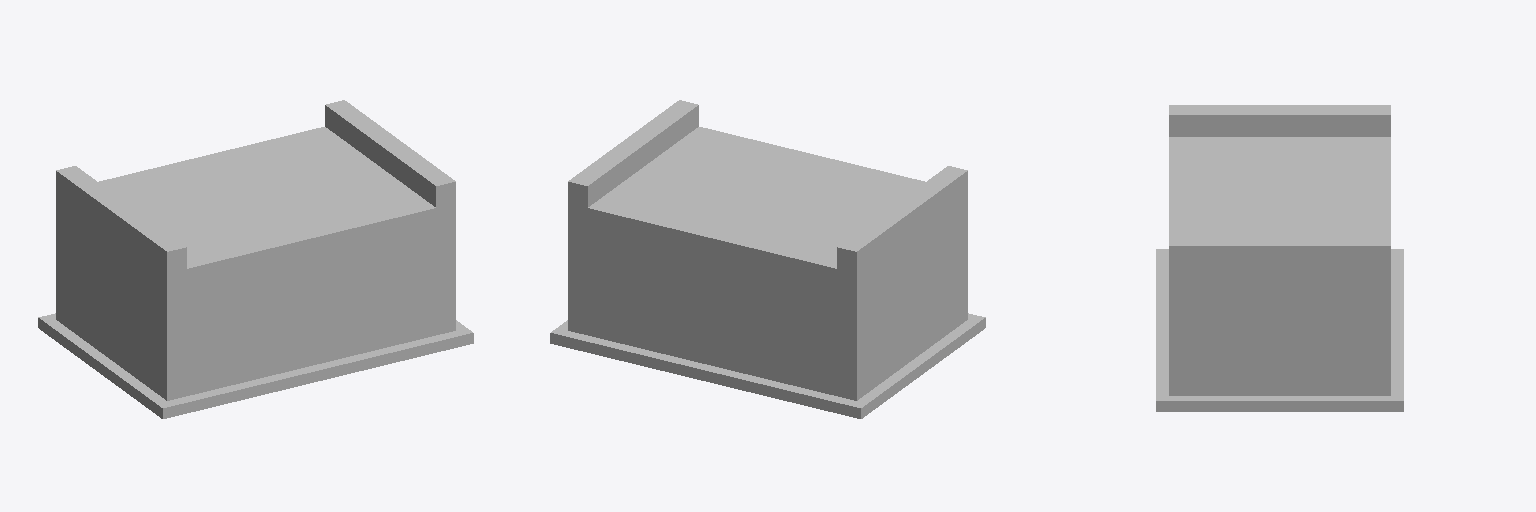
The model's file is BatteryPack.obj.
The picture shows the model from 3 angles: view 1: azimuth 30°, elevation 25°; view 2: azimuth 150°, elevation 25°; view 3: azimuth 270°, elevation 25°; orthographic projection.
Visible parts, largest first — view 1: Object204; view 2: Object204; view 3: Object204.
Boxes of the visible parts, box(x1,y1,x2,y2) form: Object204: box(38, 100, 473, 418); Object204: box(550, 100, 985, 418); Object204: box(1156, 105, 1403, 411).
Size of the model in its own units: 34.46 by 16.96 by 23.9.